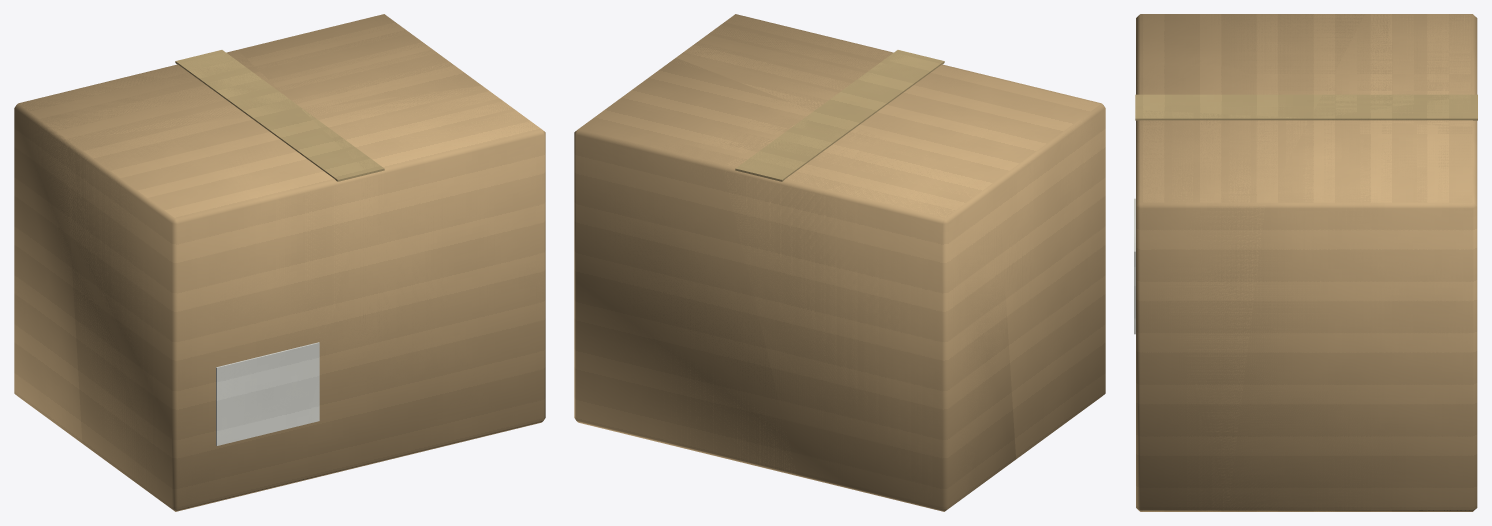
The model's file is caixa_papelao_grande.glb.
3 views of the same model, side by side, from view 1: azimuth 30°, elevation 25°; view 2: azimuth 150°, elevation 25°; view 3: azimuth 270°, elevation 25° (orthographic). The views are drawn at different scales.
Parts seen in each view (by area): view 1: Inteiro, Peca_00, Peca_01, Peca_02, Peca_03; view 2: Inteiro, Peca_01, Peca_00, Peca_03, Peca_02; view 3: Inteiro, Peca_03, Peca_02, Peca_00, Peca_01.
Part boxes in pixels (<box>): Inteiro: <box>14,14,545,511</box>; Peca_00: <box>65,110,367,511</box>; Peca_01: <box>14,50,299,443</box>; Peca_02: <box>292,85,543,482</box>; Peca_03: <box>241,15,481,109</box>; Inteiro: <box>574,14,1105,511</box>; Peca_01: <box>725,114,1015,511</box>; Peca_00: <box>829,54,1105,459</box>; Peca_03: <box>575,58,813,474</box>; Peca_02: <box>676,14,913,110</box>; Inteiro: <box>1134,14,1477,511</box>; Peca_03: <box>1228,120,1472,511</box>; Peca_02: <box>1134,110,1309,511</box>; Peca_00: <box>1135,14,1364,117</box>; Peca_01: <box>1310,14,1477,130</box>.
Bounding box in the file's own units: 0.8 × 0.603 × 0.604.
1 material, 1 textured.
